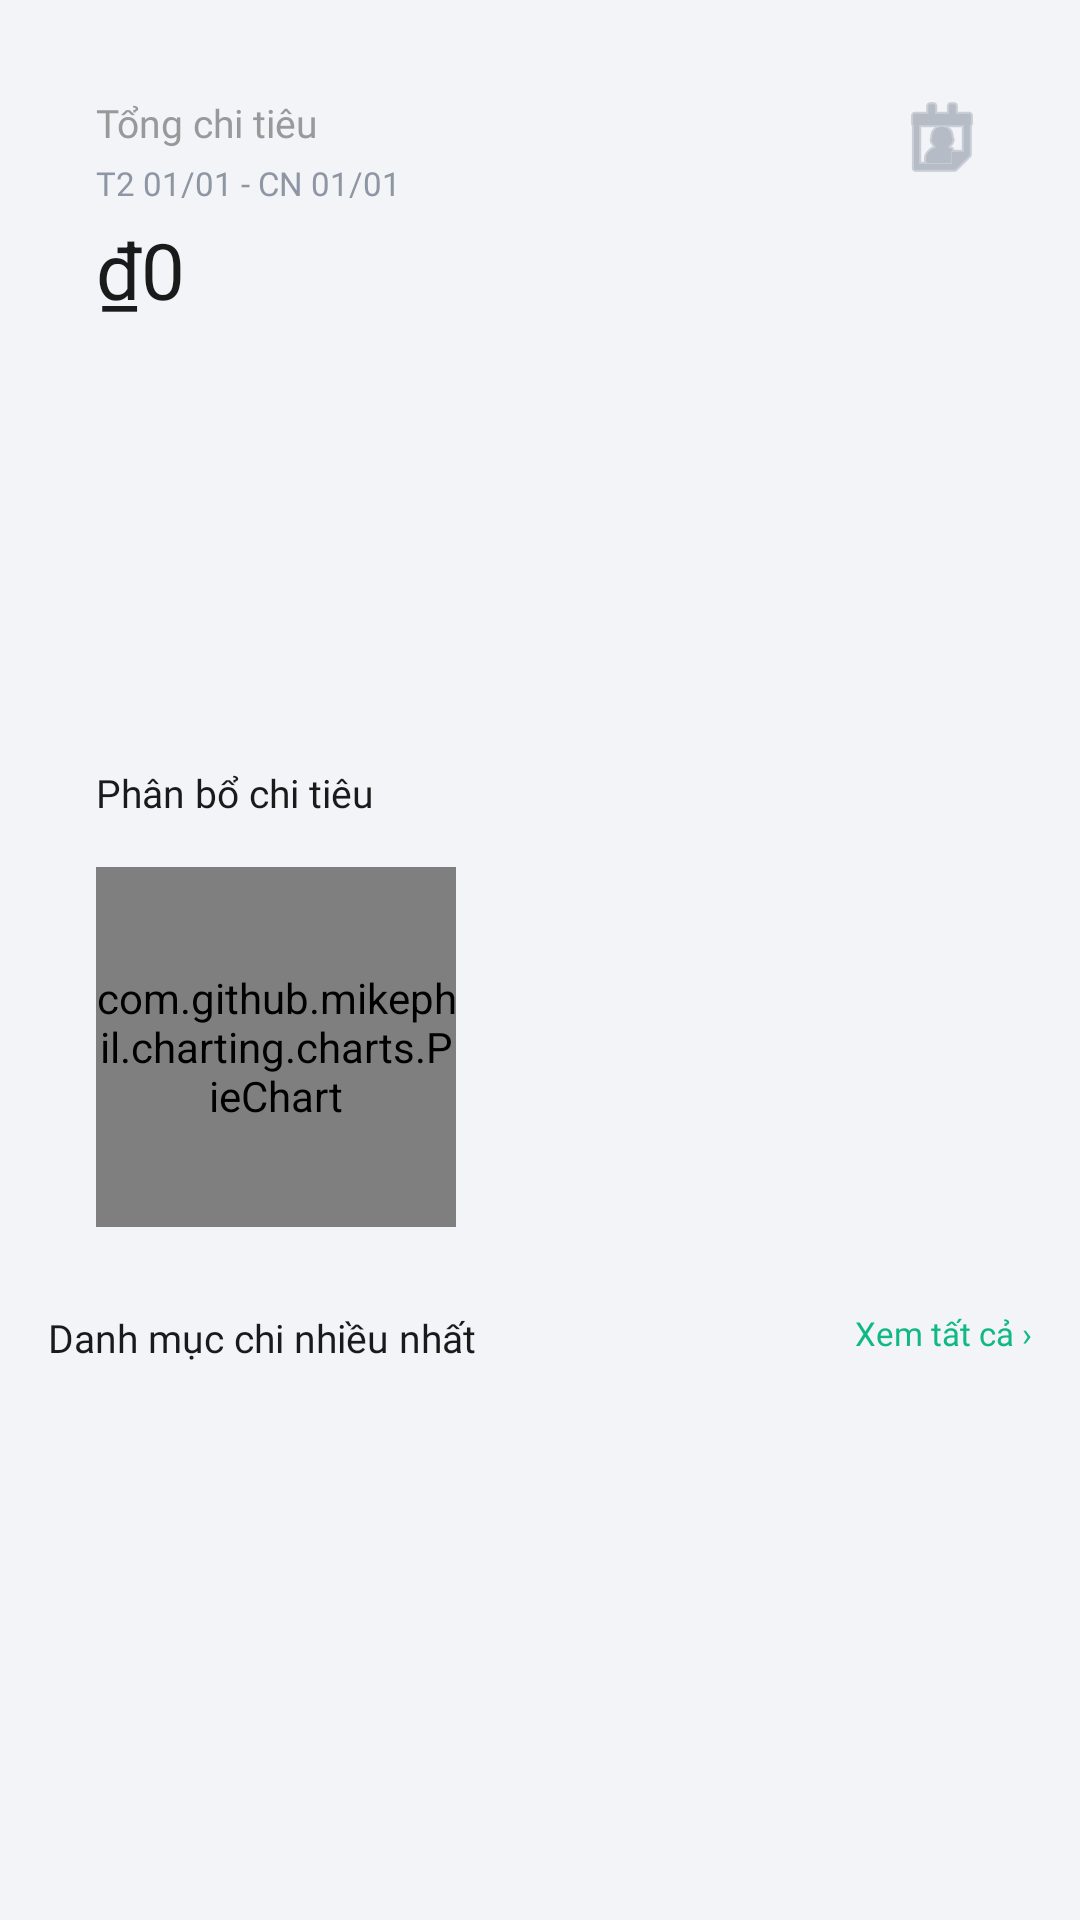

Where to tap for icons on this 1080x1920 app screen, as (x=x, y=y):
Chọn ngày thống kê: (x=942, y=137)
